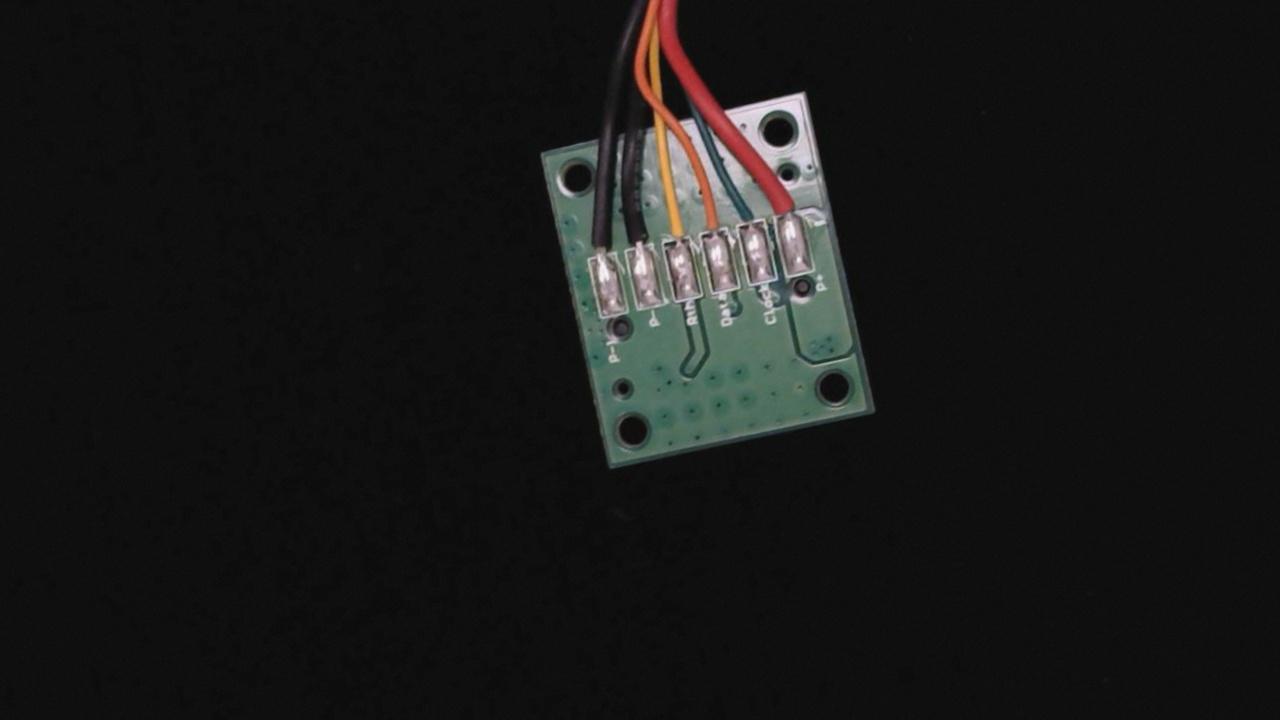Black: (611, 189, 658, 267)
Black1: (572, 205, 618, 277)
Green: (728, 182, 768, 246)
Orange: (687, 183, 731, 255)
Red: (758, 161, 805, 237)
Yellow: (648, 180, 695, 259)
